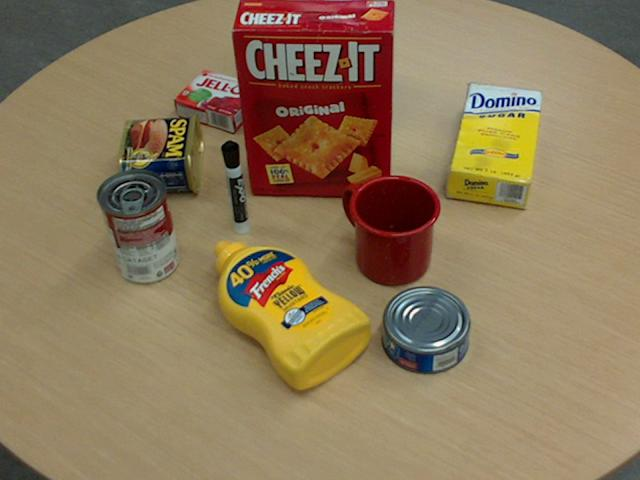cracker_box: (232, 0, 397, 195)
gelatin_box: (171, 68, 261, 132)
large_marker: (220, 140, 249, 235)
master_chef_can: (298, 0, 385, 126)
mug: (343, 173, 440, 284)
mustard_bottle: (212, 241, 370, 389)
potted_meat_can: (119, 112, 203, 193)
sugar_box: (447, 83, 541, 208)
tomato_soup_can: (95, 167, 177, 282)
tuna_fish_can: (382, 286, 471, 373)
